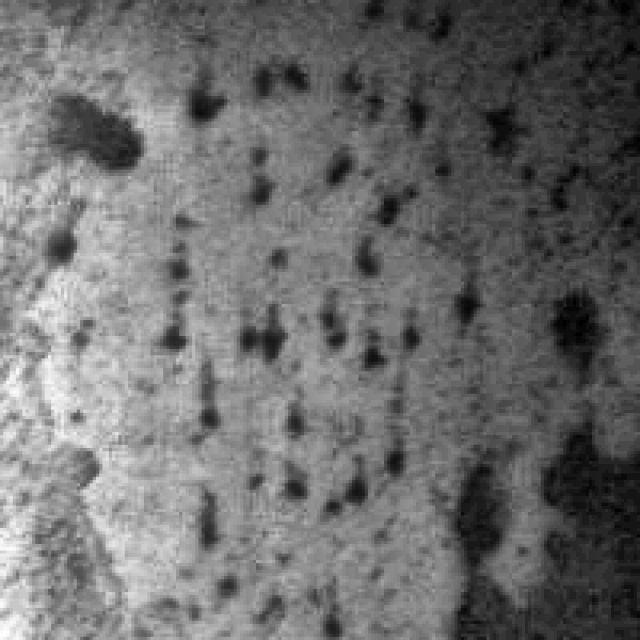Rolled_in_Scale: (48, 67, 438, 608), (492, 208, 630, 637)
